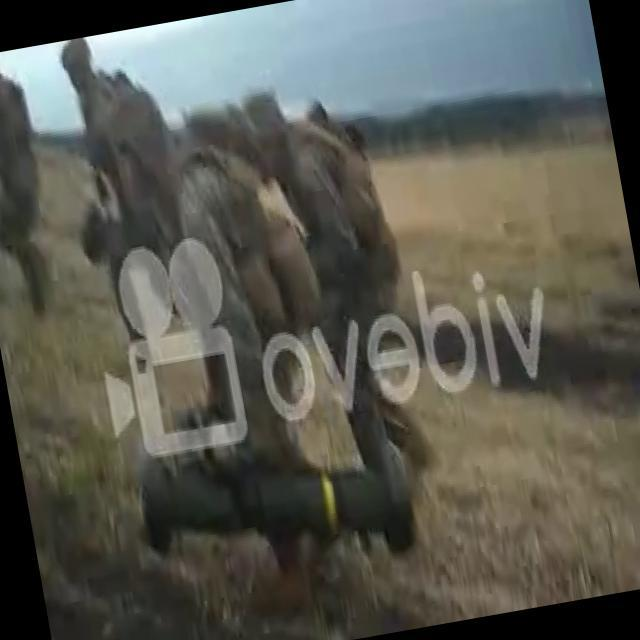rocket: (134, 422, 418, 599)
